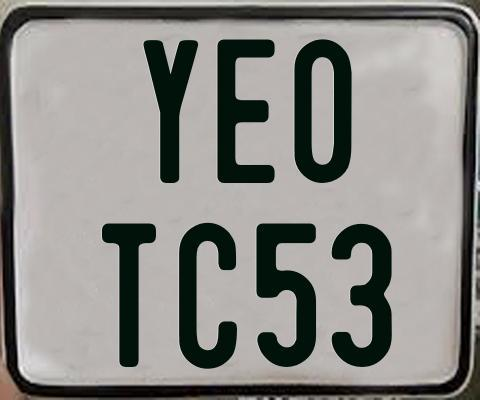0: (292, 38, 351, 183)
3: (330, 221, 391, 369)
5: (253, 221, 315, 366)
C: (179, 223, 240, 371)
E: (216, 38, 274, 182)
T: (100, 220, 160, 366)
Y: (140, 38, 197, 183)
